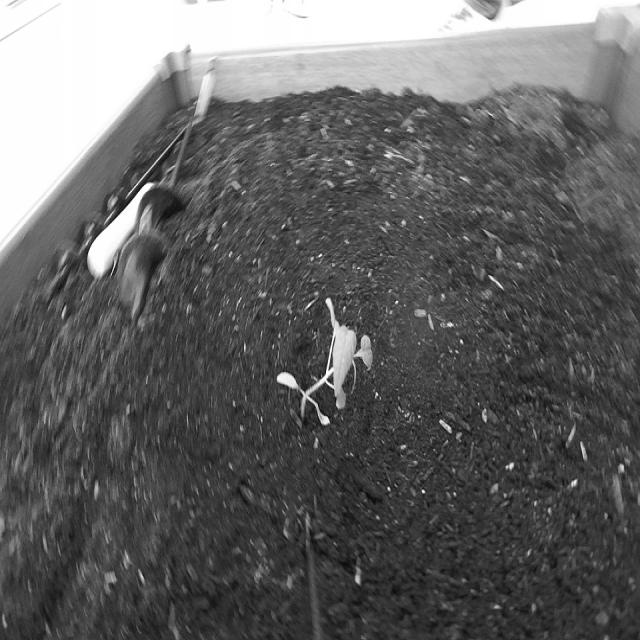Healthy: (276, 290, 376, 432)
